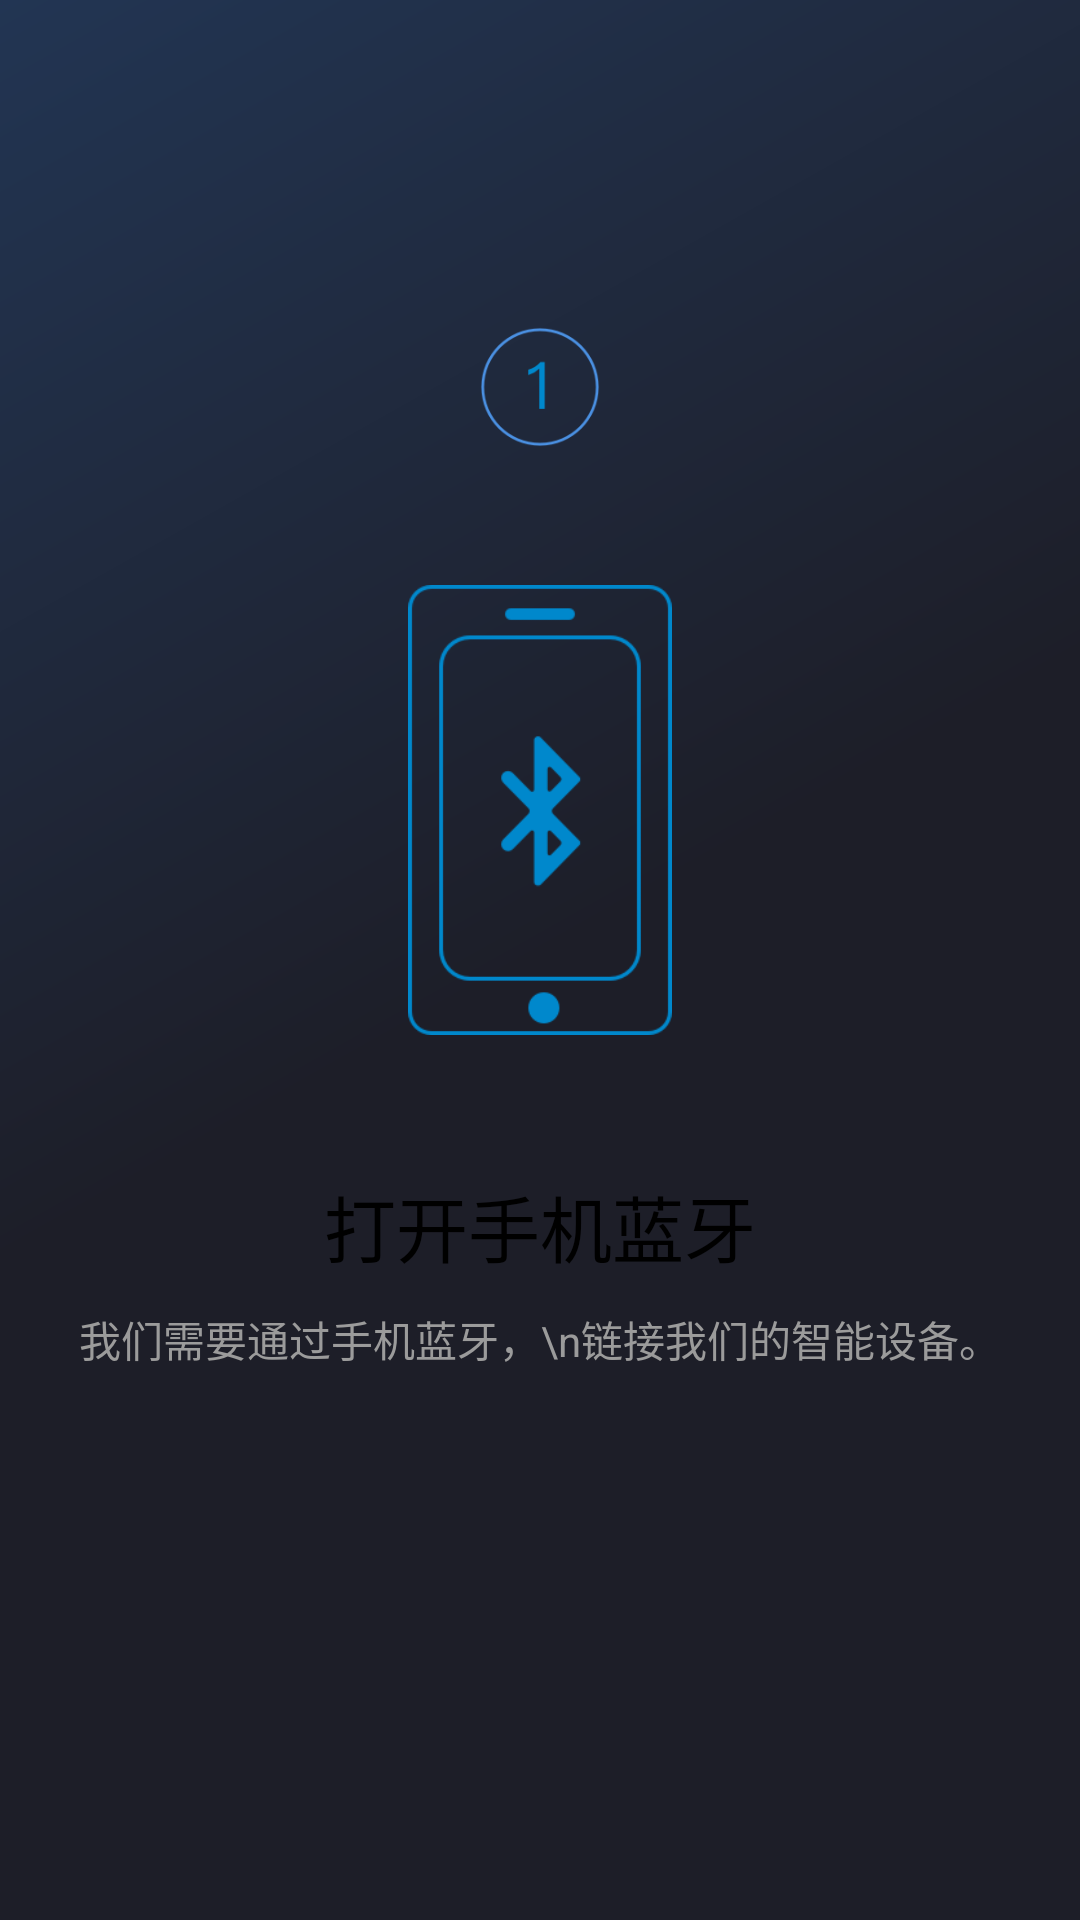

Named icons in this screenshot (1080x1920) and their bounding boxes, bbox=(x1, y1, x2, y2):
guide num: bbox=(481, 328, 599, 446)
